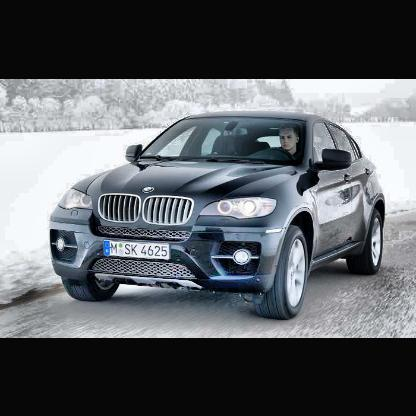BMW X6 SUV 2012: (48, 109, 386, 321)
